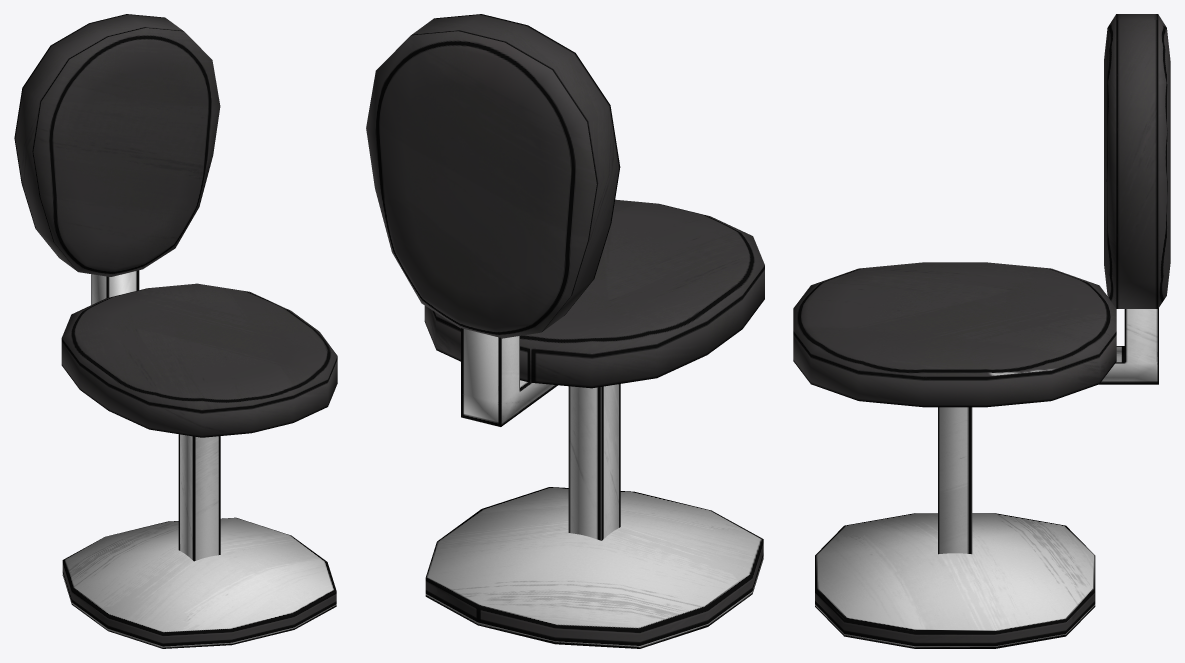
The model's file is Silla Giratoria.fbx.
3 renders of one model, left to right at view 1: azimuth 30°, elevation 25°; view 2: azimuth 150°, elevation 25°; view 3: azimuth 270°, elevation 25°, orthographic. The views are drawn at different scales.
Visible parts, largest first — view 1: Silla; view 2: Silla; view 3: Silla.
Boxes of the visible parts, box(x1,y1,x2,y2) form: Silla: box(14, 14, 337, 648); Silla: box(366, 14, 764, 648); Silla: box(793, 14, 1170, 648).
Size of the model in its own units: 25.3 by 55.62 by 33.99.
Materials: 1 (1 with a texture image).
